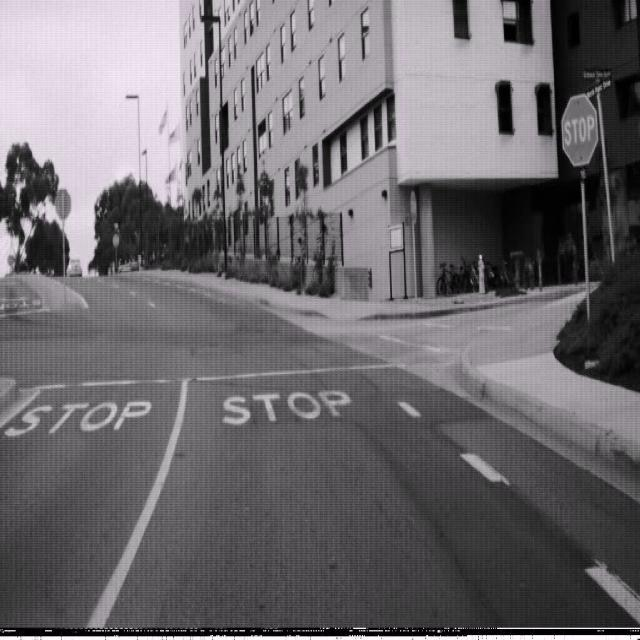stop: (560, 93, 598, 167)
